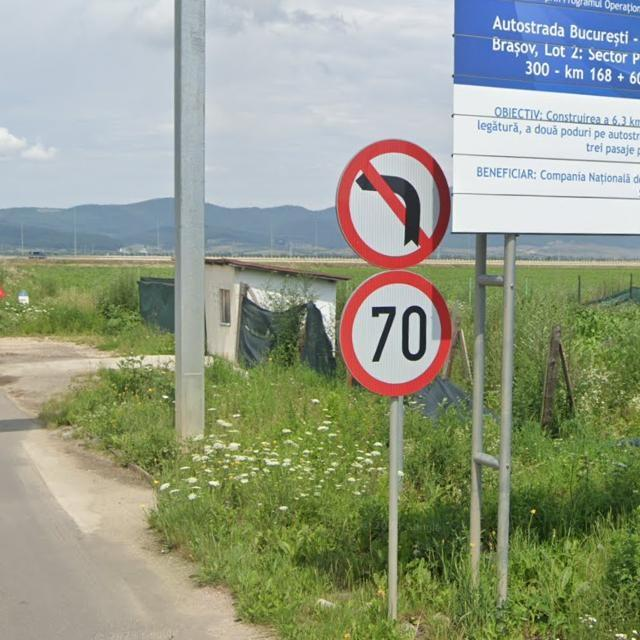forb_speed_over_70: (334, 270, 452, 398)
